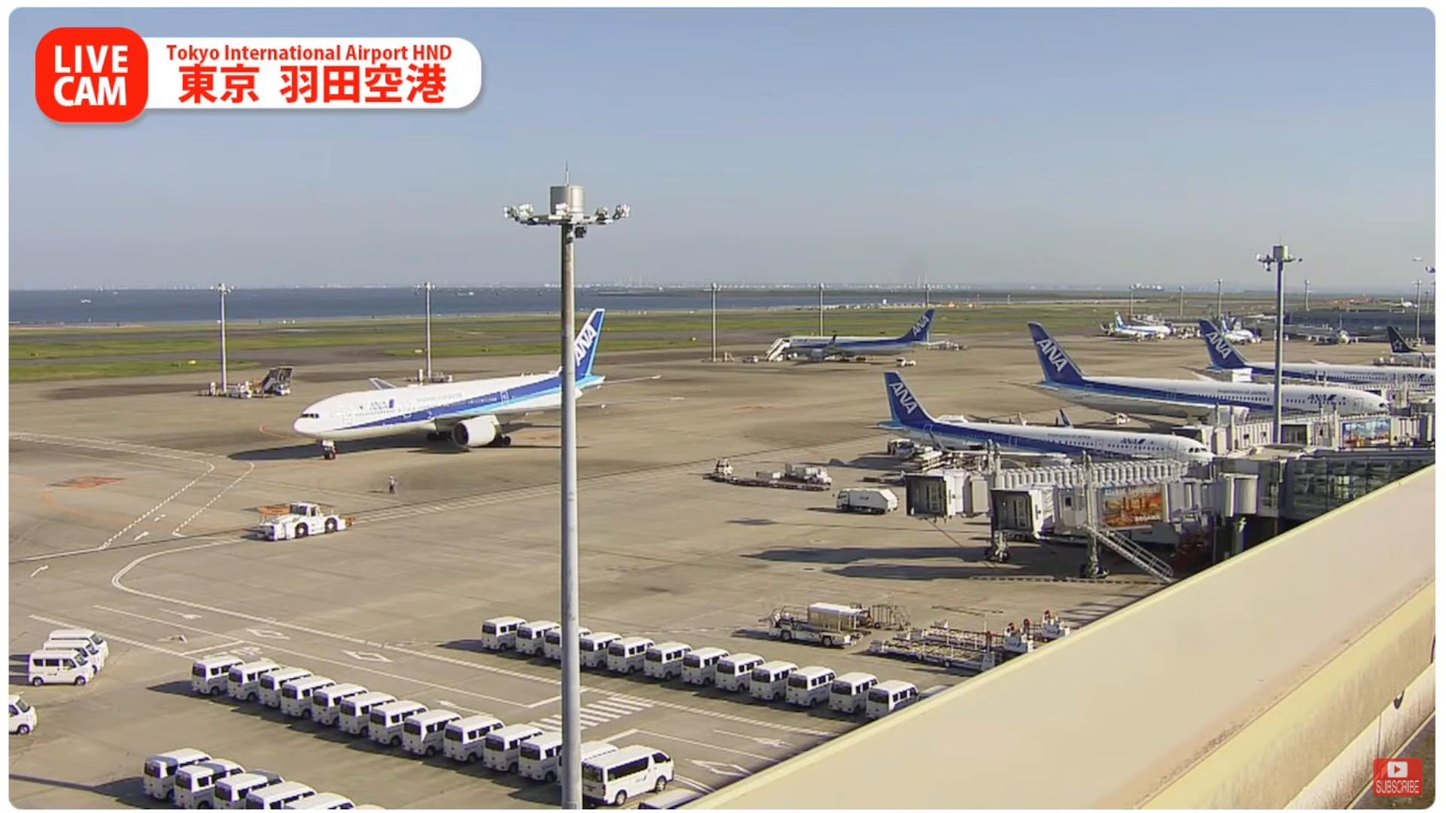APS: (280, 499, 350, 536)
Aerobridge: (904, 456, 1198, 520), (990, 479, 1258, 539)
Airplane: (280, 310, 708, 459)
JCPL: (904, 613, 1077, 658), (867, 634, 1012, 675)
Skyloader: (761, 600, 870, 651)
Window: (1281, 462, 1437, 524)
